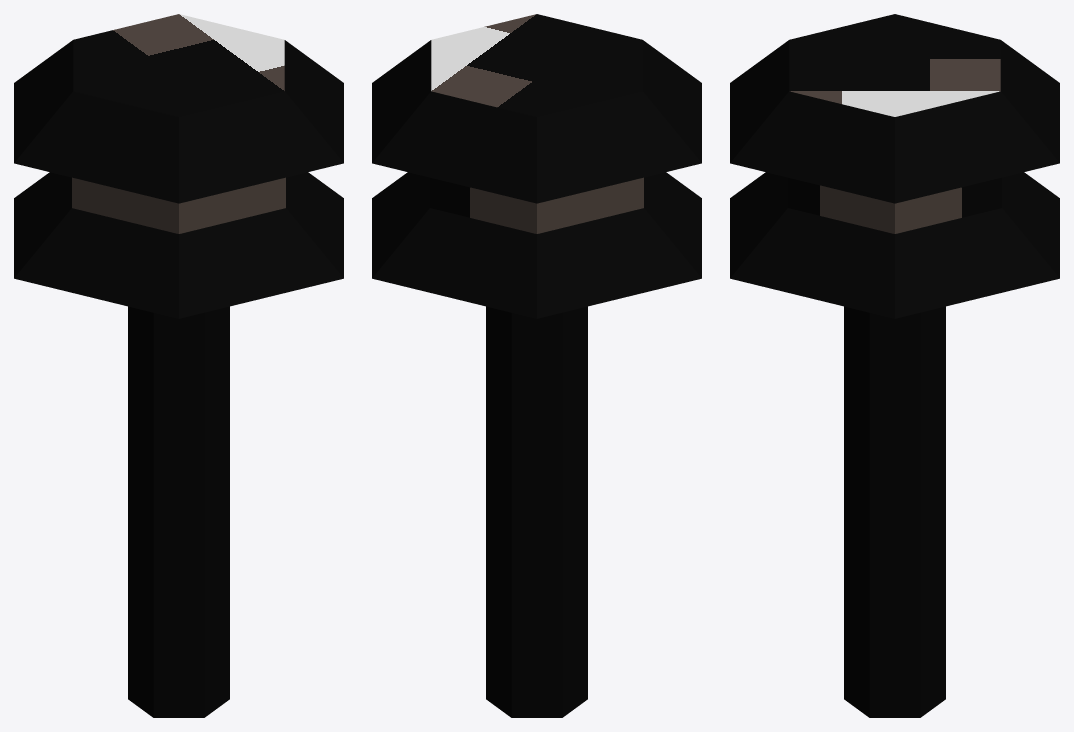
The model's file is solar_light.obj.
The picture shows the model from 3 angles, left to right: view 1: azimuth 30°, elevation 25°; view 2: azimuth 150°, elevation 25°; view 3: azimuth 270°, elevation 25°; orthographic projection.
Parts seen in each view (by area): view 1: Solarlight_Cylinder.001, Emission_Cylinder.002; view 2: Solarlight_Cylinder.001, Emission_Cylinder.002; view 3: Solarlight_Cylinder.001, Emission_Cylinder.002.
Part boxes in pixels (x1,y1,x2,y2): Solarlight_Cylinder.001: (14,14,343,717); Emission_Cylinder.002: (72,177,285,233); Solarlight_Cylinder.001: (372,14,701,717); Emission_Cylinder.002: (430,177,643,233); Solarlight_Cylinder.001: (730,14,1059,717); Emission_Cylinder.002: (788,177,1001,233).
Bounding box in the file's own units: 0.3744 × 0.6875 × 0.3242.
